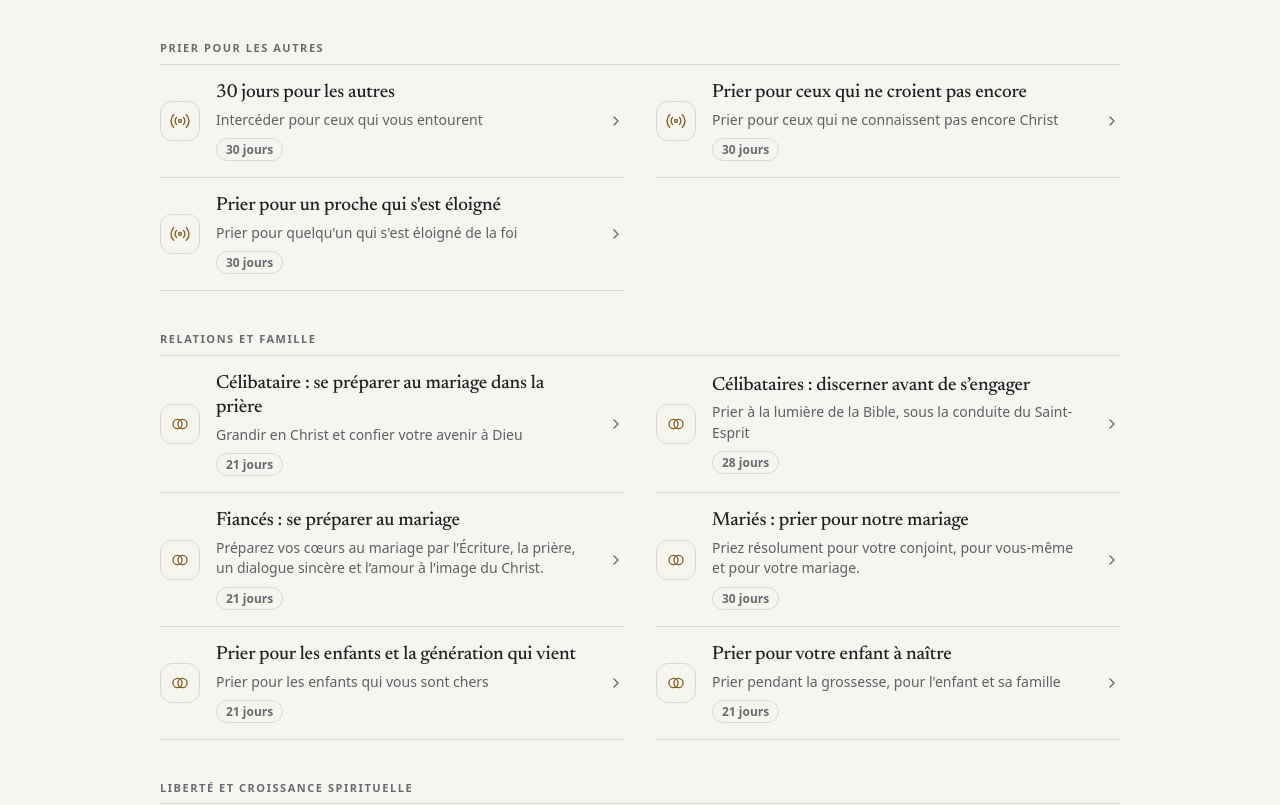
approved and draft plans in the journey catalogue › opens discernment28 without a draft warning or preview flag
(page scrolled)
Click the text "Célibataires : discerner avant de s’engager" at (871, 385), box [712, 376, 1030, 395]
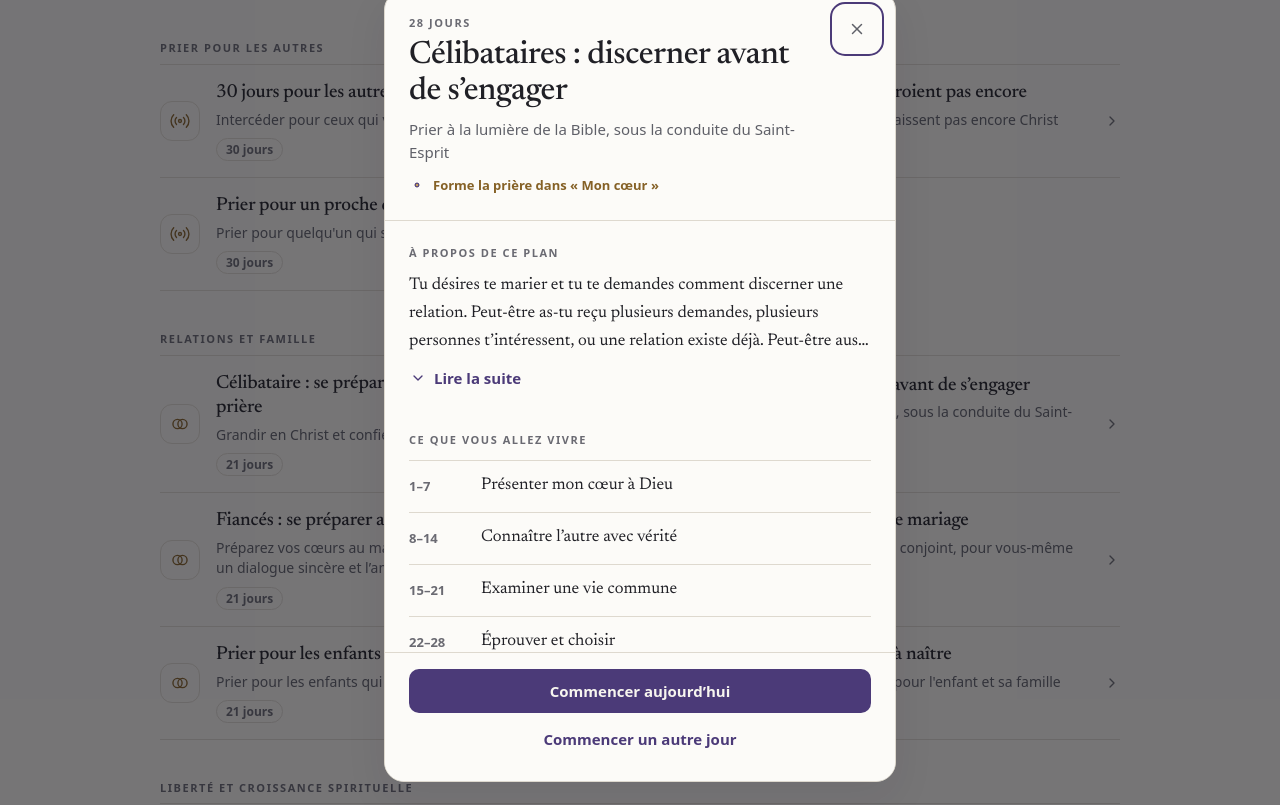
Expected: the button "Commencer aujourd’hui" is shown, [409, 669, 871, 713]
